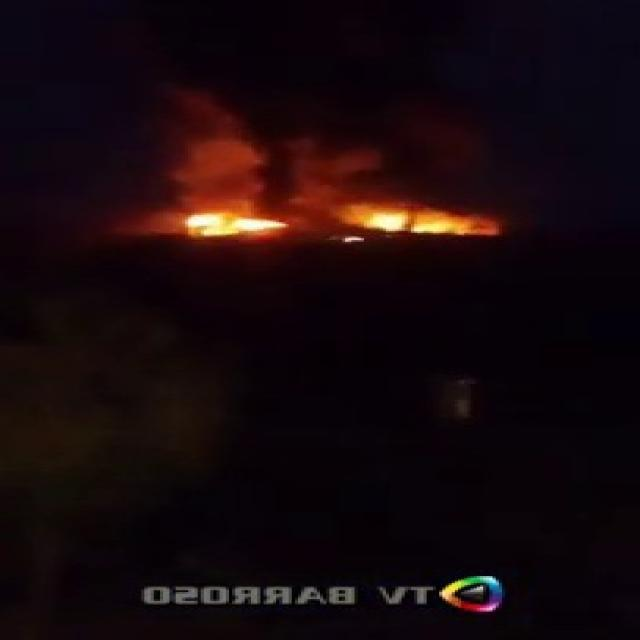Fire: (356, 212, 494, 246), (196, 207, 280, 234)
